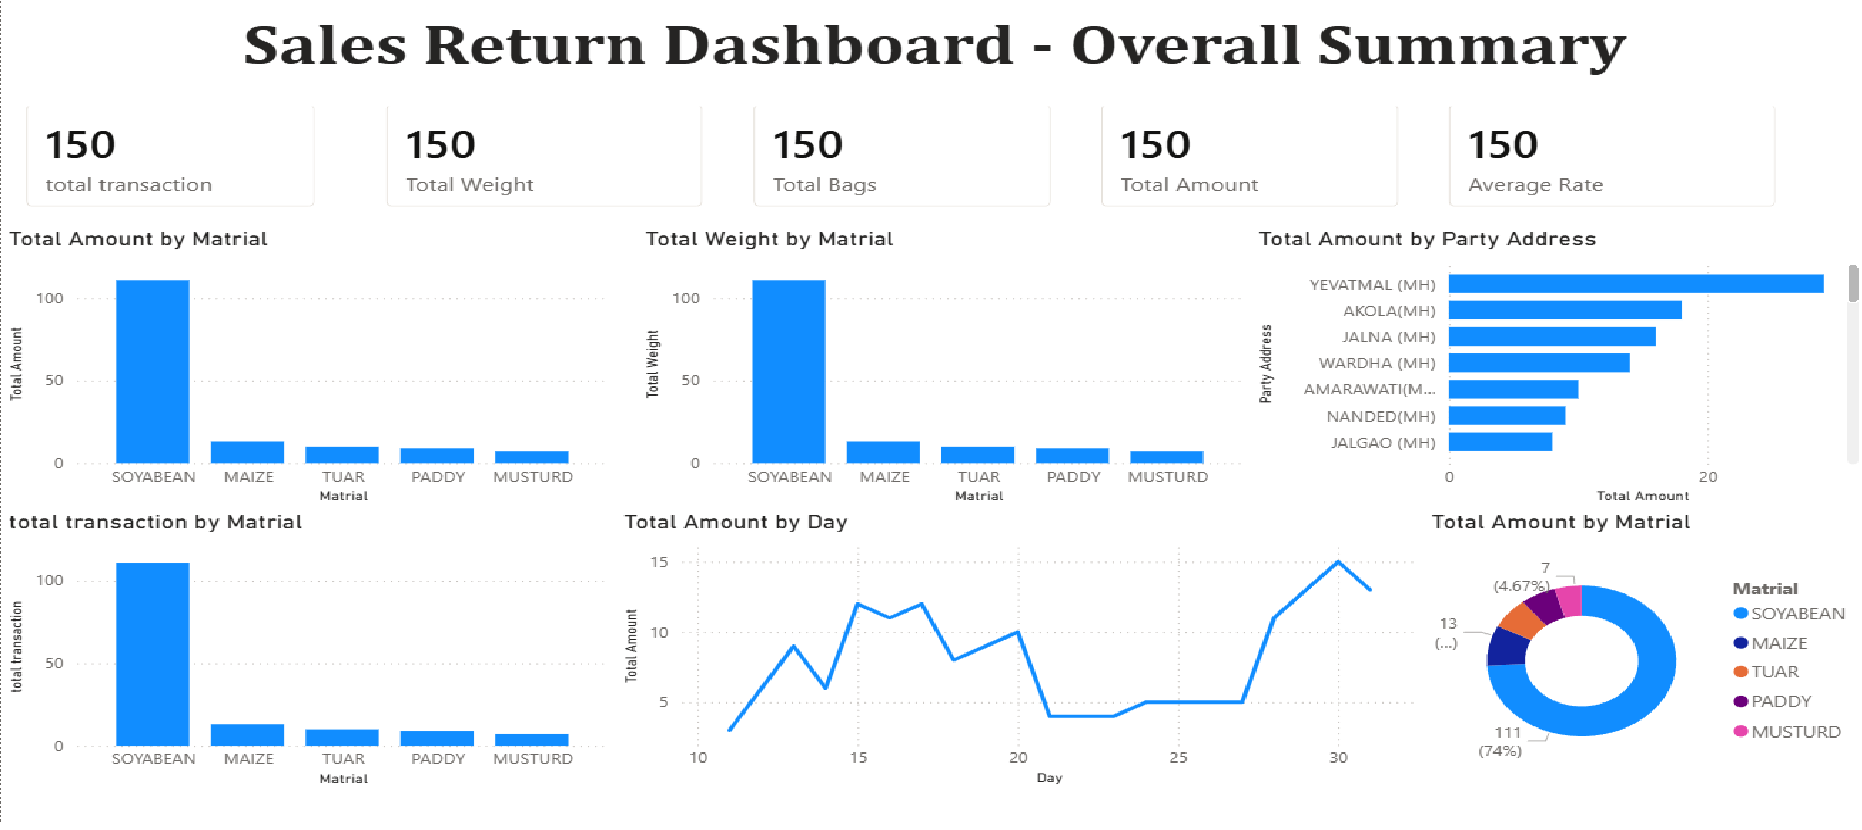

This screenshot's page, from the dashboard's own definition file:
{"tool":"powerbi","page":{"name":"Sales Return Dashboard -1","canvas":[1280,720],"ordinal":0},"visuals":[{"type":"cardVisual","fields":{"Data":["sales_data.total transaction"]},"box":[0,80.7,232.3,122.3],"z":0},{"type":"cardVisual","fields":{"Data":["sales_data.Total Weight"]},"box":[247,80.7,251.9,122.3],"z":1000},{"type":"cardVisual","fields":{"Data":["sales_data.Total Bags"]},"box":[498.9,80.7,238.5,122.3],"z":2000},{"type":"cardVisual","fields":{"Data":["sales_data.Total Amount"]},"box":[737.4,80.7,238.5,122.3],"z":3000},{"type":"cardVisual","fields":{"Data":["sales_data.Average Rate"]},"box":[975.8,80.7,258,122.3],"z":4000},{"type":"clusteredColumnChart","fields":{"Category":["sales_data.Matrial "],"Y":["sales_data.Total Amount"]},"box":[0,203,421.9,243.3],"z":5000},{"type":"clusteredColumnChart","fields":{"Category":["sales_data.Matrial "],"Y":["sales_data.Total Weight"]},"box":[436.6,203,420.7,243.3],"z":6000},{"type":"clusteredBarChart","fields":{"Category":["sales_data.Party Address"],"Y":["sales_data.Total Amount"]},"box":[857.2,203,421.9,243.3],"z":7000},{"type":"clusteredColumnChart","fields":{"Category":["sales_data.Matrial "],"Y":["sales_data.total transaction"]},"box":[0,446.3,421.9,243.3],"z":8000},{"type":"lineChart","fields":{"Y":["sales_data.Total Amount"],"Category":["sales_data.Date.Variation.Date Hierarchy.Day"]},"box":[421.9,446.3,553.9,242.1],"z":9000},{"type":"donutChart","fields":{"Category":["sales_data.Matrial "],"Y":["sales_data.Total Amount"]},"box":[975.8,446.3,303.3,242.1],"z":10000},{"type":"textbox","box":[0,12.2,1280.3,86.8],"z":10001}]}

Visuals, with their boxes on the page's 1280x720 design canvas (x1, y1, x2, y2). These are canvas units, not pixel positions in the 1862x830 screenshot, which may show the page scaled, cropped or inside an application window:
cardVisual - sales_data.total transaction: Rect(0, 81, 232, 203)
cardVisual - sales_data.Total Weight: Rect(247, 81, 499, 203)
cardVisual - sales_data.Total Bags: Rect(499, 81, 737, 203)
cardVisual - sales_data.Total Amount: Rect(737, 81, 976, 203)
cardVisual - sales_data.Average Rate: Rect(976, 81, 1234, 203)
clusteredColumnChart - sales_data.Matrial  x sales_data.Total Amount: Rect(0, 203, 422, 446)
clusteredColumnChart - sales_data.Matrial  x sales_data.Total Weight: Rect(437, 203, 857, 446)
clusteredBarChart - sales_data.Party Address x sales_data.Total Amount: Rect(857, 203, 1279, 446)
clusteredColumnChart - sales_data.Matrial  x sales_data.total transaction: Rect(0, 446, 422, 690)
lineChart - sales_data.Total Amount x sales_data.Date.Variation.Date Hierarchy.Day: Rect(422, 446, 976, 688)
donutChart - sales_data.Matrial  x sales_data.Total Amount: Rect(976, 446, 1279, 688)
textbox: Rect(0, 12, 1280, 99)
